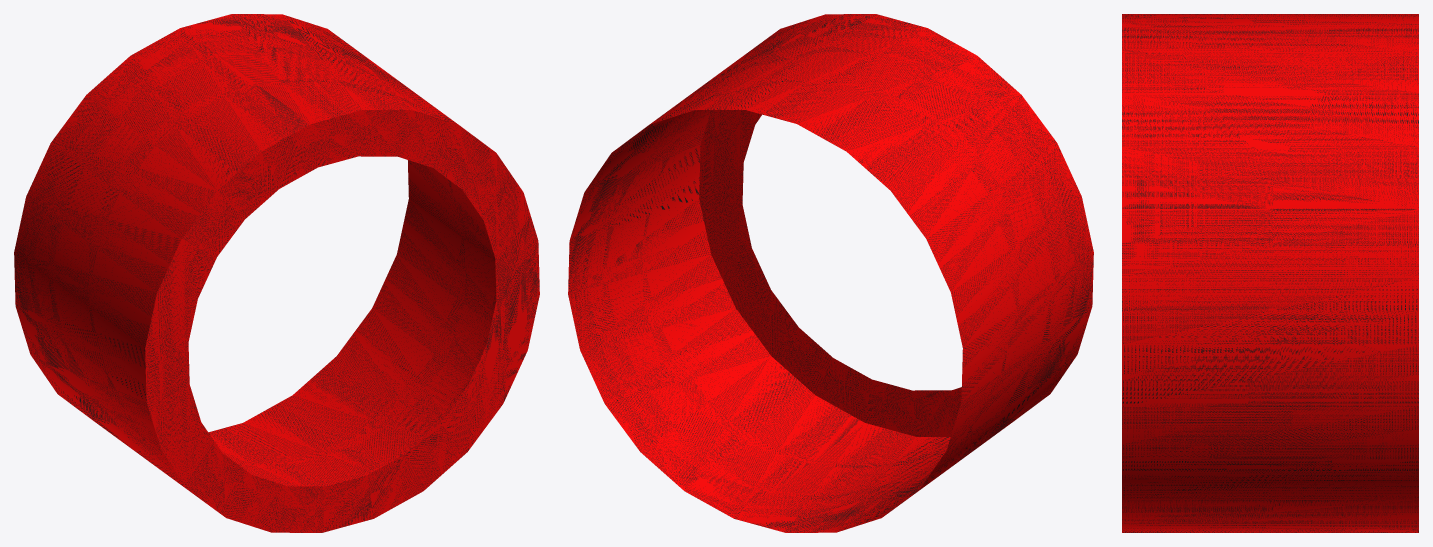
File: original-67.obj
3 renders of one model, left to right at view 1: azimuth 30°, elevation 25°; view 2: azimuth 150°, elevation 25°; view 3: azimuth 270°, elevation 25°, orthographic. The views are drawn at different scales.
Parts seen in each view (by area): view 1: mesh98/mesh98-geometry/material_2/component_2#mesh98-geometry; view 2: mesh98/mesh98-geometry/material_2/component_2#mesh98-geometry; view 3: mesh98/mesh98-geometry/material_2/component_2#mesh98-geometry.
Boxes of the visible parts, x1,y1,x2,y2 form: mesh98/mesh98-geometry/material_2/component_2#mesh98-geometry: (14, 14, 539, 532); mesh98/mesh98-geometry/material_2/component_2#mesh98-geometry: (568, 14, 1093, 532); mesh98/mesh98-geometry/material_2/component_2#mesh98-geometry: (1122, 14, 1418, 532).
Size of the model in its own units: 0.57 by 0.57 by 0.3277.
